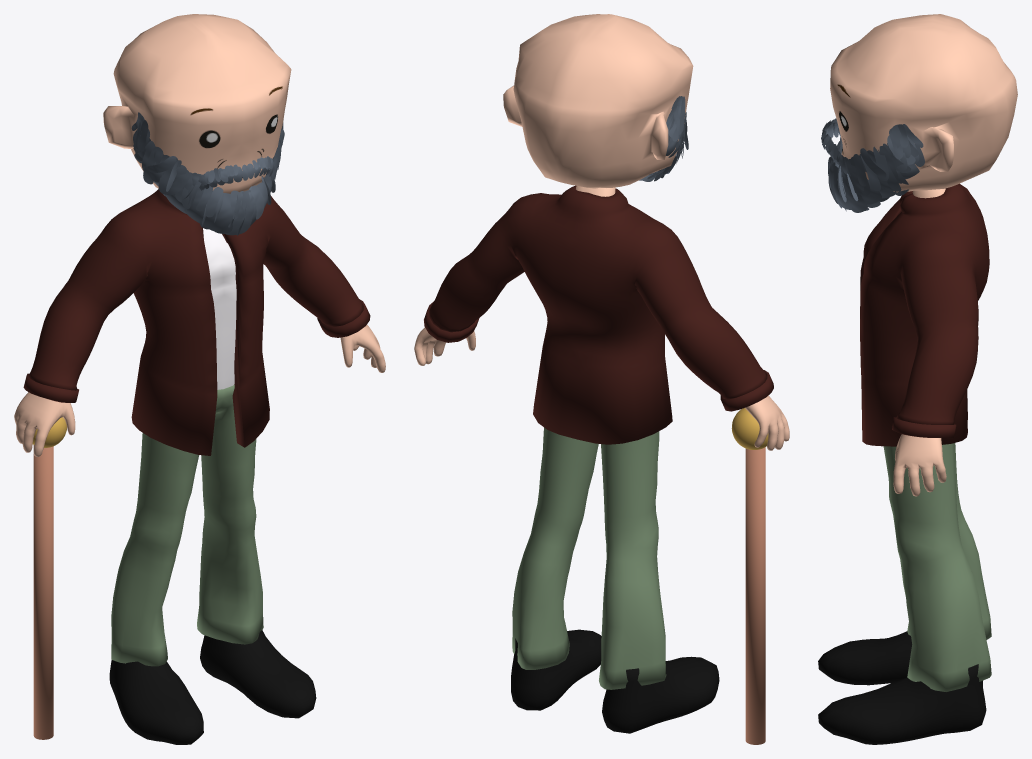
Rendered from old man.fbx.
3 renders of one model, left to right at view 1: azimuth 30°, elevation 25°; view 2: azimuth 150°, elevation 25°; view 3: azimuth 270°, elevation 25°, orthographic.
Visible parts, largest first — view 1: head 3; view 2: head 3; view 3: head 3.
Part boxes in pixels (<box>): head 3: <box>14,14,385,744</box>; head 3: <box>414,14,789,744</box>; head 3: <box>818,14,1017,744</box>.
Size of the model in its own units: 180 by 327 by 86.48.
